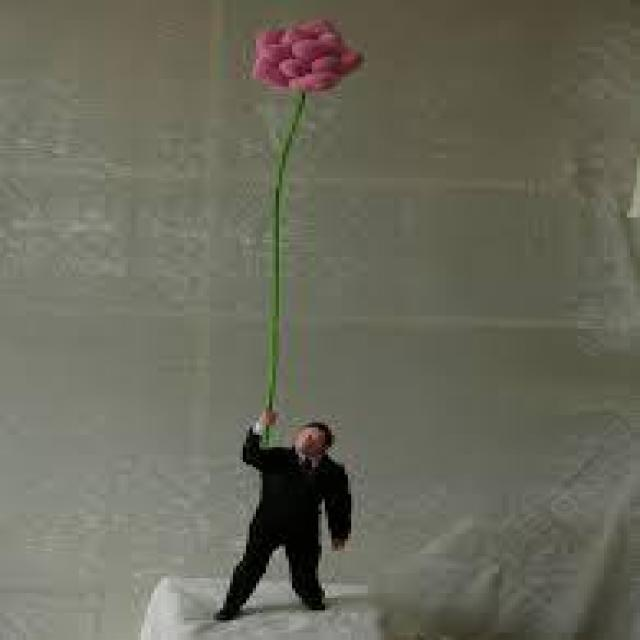organic waste: (246, 16, 358, 98)
